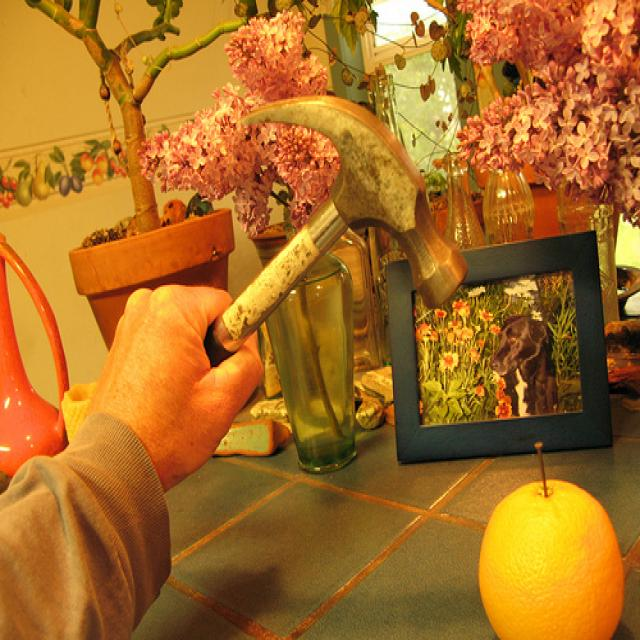hammer: (179, 68, 476, 398)
